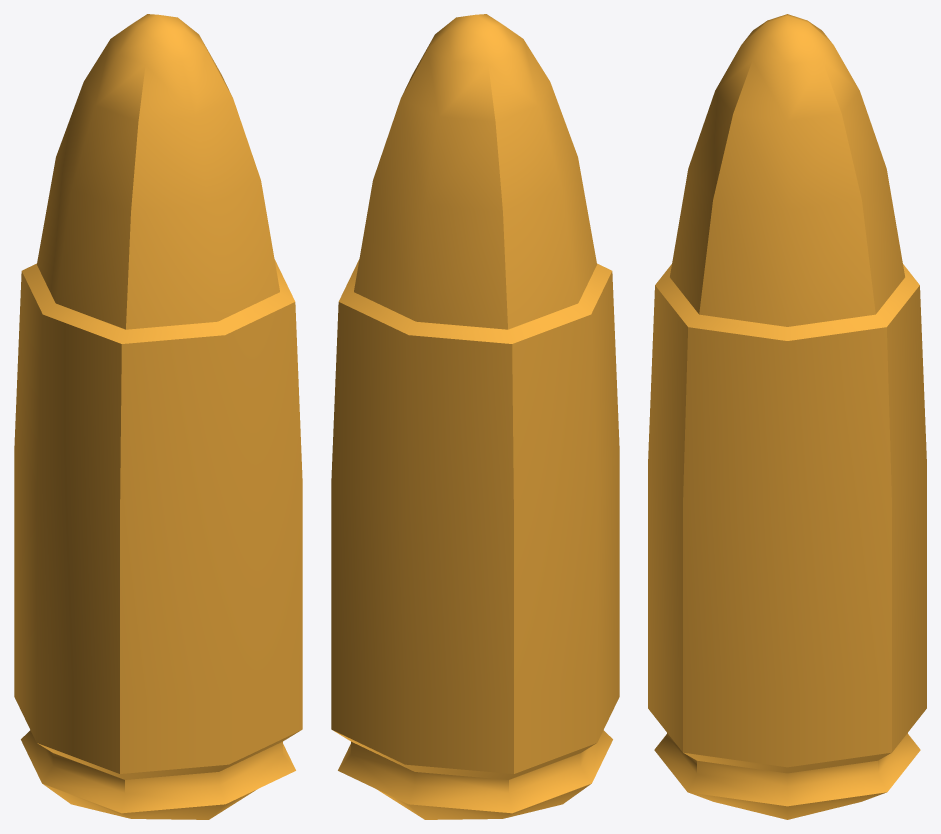
The model's file is bullet_02.glb.
The picture shows the model from 3 angles, left to right: view 1: azimuth 30°, elevation 25°; view 2: azimuth 150°, elevation 25°; view 3: azimuth 270°, elevation 25°; orthographic projection.
Parts seen in each view (by area): view 1: Pickup_Bullets; view 2: Pickup_Bullets; view 3: Pickup_Bullets.
Boxes of the visible parts, bbox=[...] form: Pickup_Bullets: bbox=[14, 14, 302, 819]; Pickup_Bullets: bbox=[331, 14, 619, 819]; Pickup_Bullets: bbox=[648, 14, 926, 819].
Size of the model in its own units: 0.2761 by 0.8421 by 0.2761.
1 material, 1 textured.
